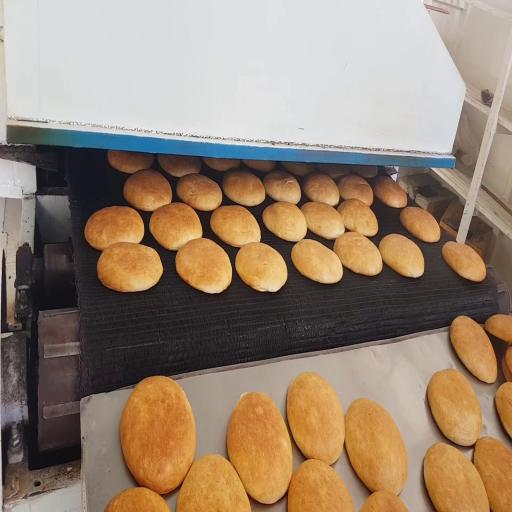bread: (120, 377, 195, 494), (227, 393, 292, 503), (346, 399, 407, 494), (287, 373, 344, 464), (424, 443, 489, 511), (427, 369, 482, 446), (176, 454, 250, 511), (288, 460, 354, 511), (97, 242, 163, 292), (450, 316, 497, 383), (176, 238, 231, 293), (474, 438, 511, 511), (235, 242, 287, 292), (85, 206, 144, 250), (150, 203, 202, 250), (292, 239, 342, 283), (334, 232, 382, 275), (210, 206, 260, 246), (124, 170, 172, 211), (379, 234, 424, 277), (443, 241, 486, 282), (263, 202, 307, 241), (177, 174, 222, 211), (301, 202, 344, 239), (223, 170, 265, 206), (338, 199, 378, 236), (105, 488, 169, 511), (400, 207, 440, 242), (263, 170, 301, 204), (303, 173, 339, 206), (338, 175, 373, 206), (108, 150, 153, 173), (374, 177, 407, 208), (360, 491, 408, 511), (158, 155, 201, 177), (495, 382, 511, 438), (485, 314, 511, 343), (316, 163, 349, 179), (203, 157, 240, 171), (282, 162, 314, 176), (243, 160, 275, 172), (350, 165, 378, 178), (502, 345, 511, 381), (502, 349, 511, 382)
